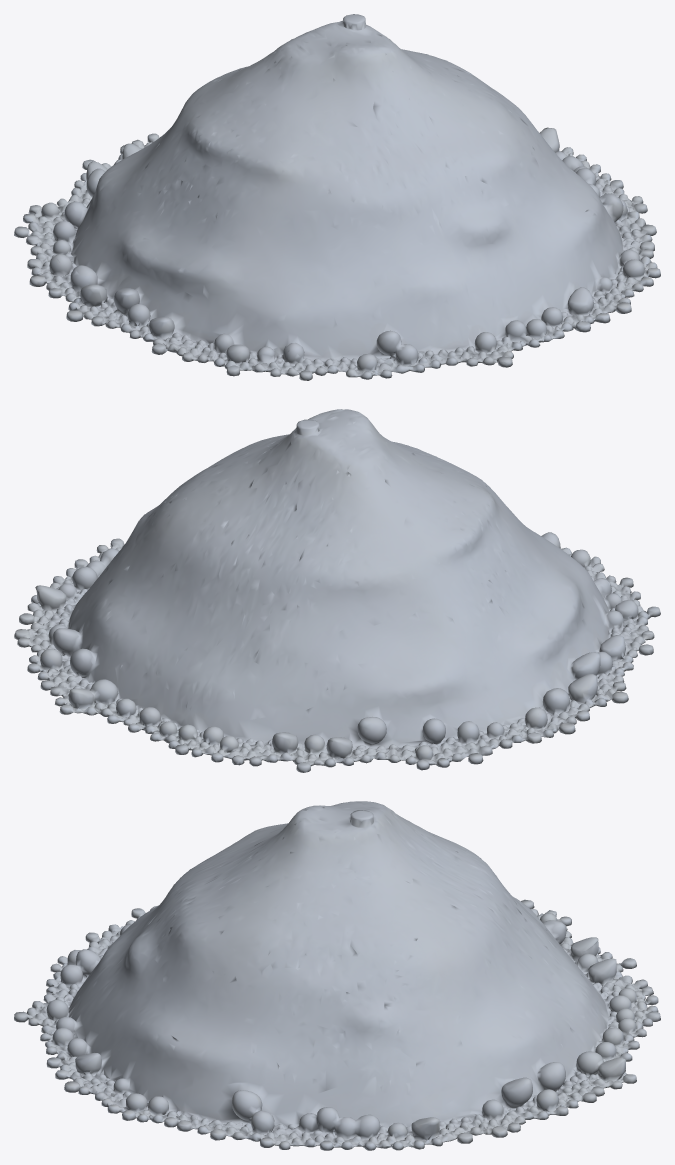
3 views of the same model, one above another, from view 1: azimuth 30°, elevation 25°; view 2: azimuth 150°, elevation 25°; view 3: azimuth 270°, elevation 25° (orthographic).
Visible parts, largest first — view 1: material; view 2: material; view 3: material.
Boxes of the visible parts, x1,y1,x2,y2 form: material: (14, 14, 660, 380); material: (14, 409, 660, 772); material: (14, 801, 660, 1150).
Bounding box in the file's own units: 107 × 40.06 × 109.
1 material, 1 textured.
